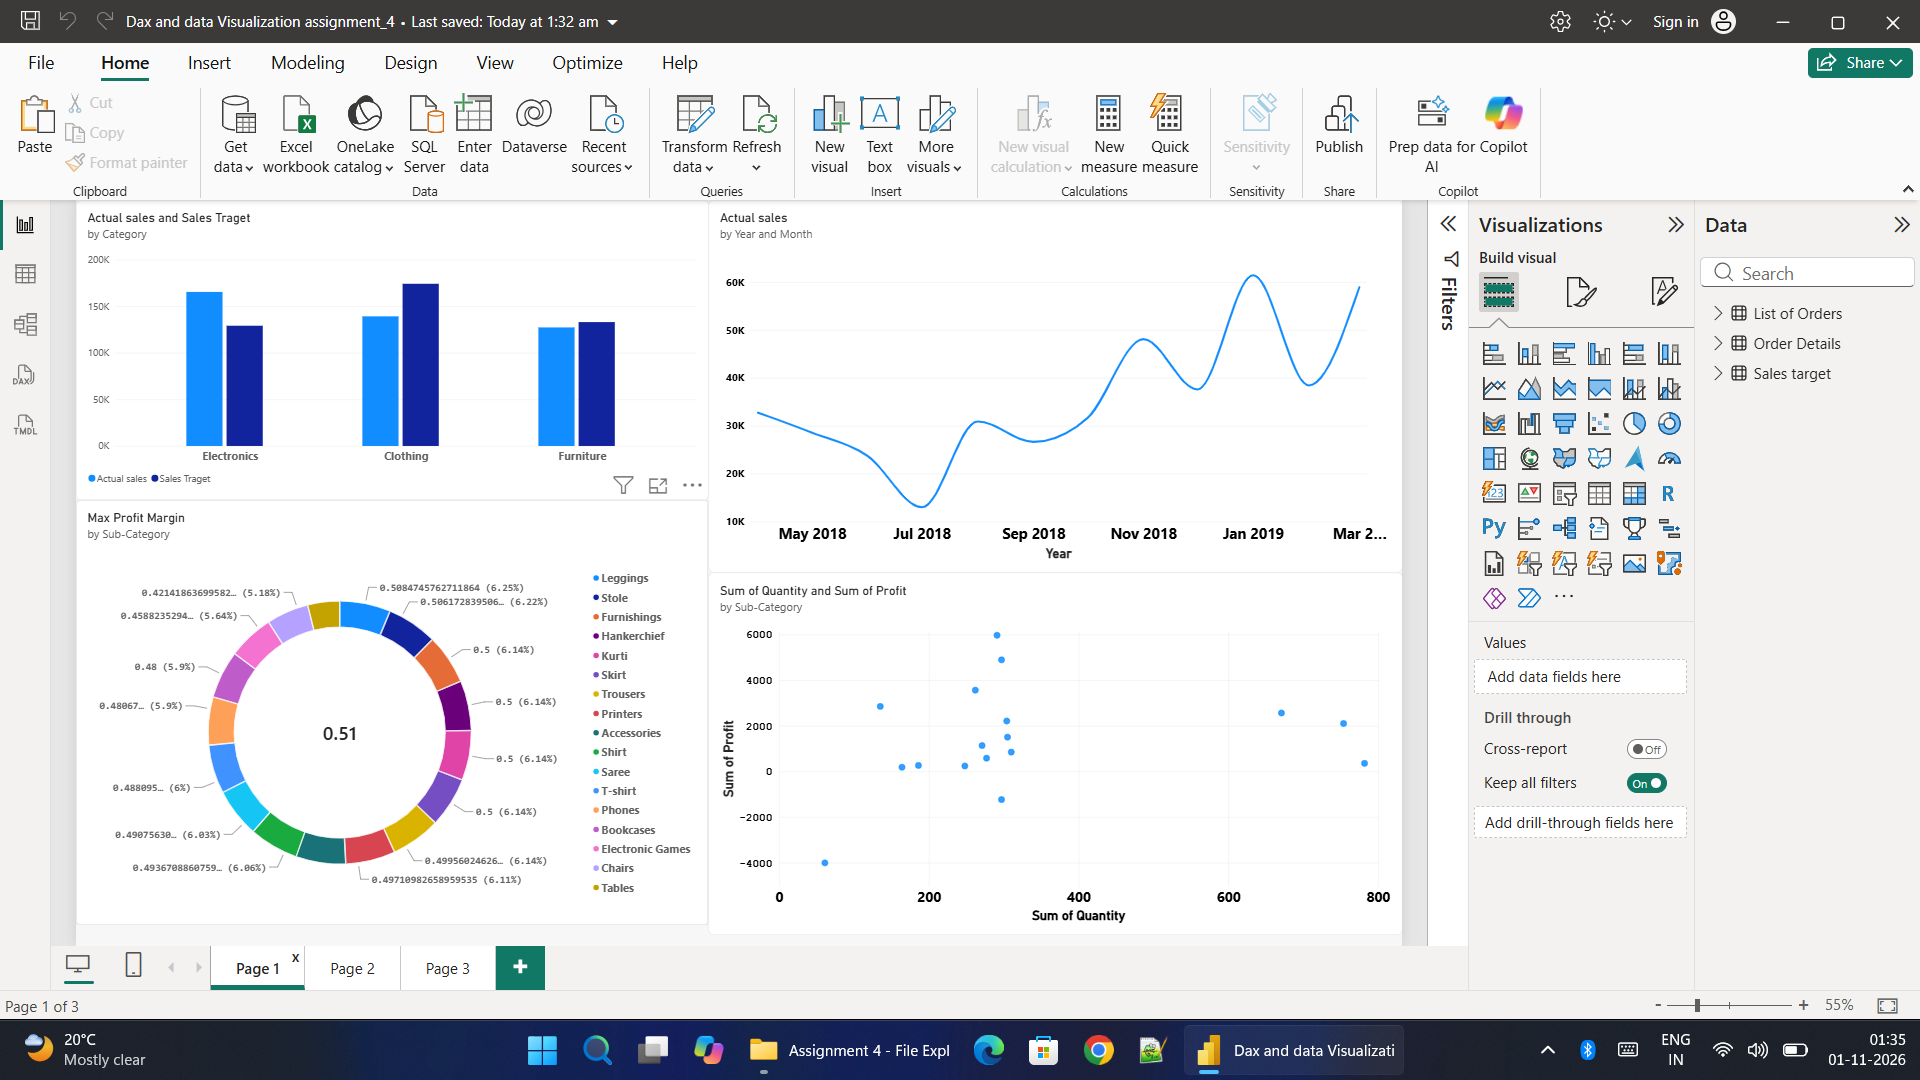

Layout of this report page (visuals, bound fields, positions):
{"tool":"powerbi","page":{"name":"Page 1","canvas":[1920,1080],"ordinal":0},"visuals":[{"type":"clusteredColumnChart","fields":{"Category":["Sales target.Category"],"Y":["Order Details.Actual sales","Sales target.Sales Traget"]},"box":[0,0,916,434.3],"z":0},{"type":"donutChart","fields":{"Category":["Order Details.Sub-Category"],"Y":["Order Details.Max Profit Margin"]},"box":[0,434.3,916,615.4],"z":1000},{"type":"lineChart","fields":{"Category":["List of Orders.Order Date.Variation.Date Hierarchy.Year","List of Orders.Order Date.Variation.Date Hierarchy.Month"],"Y":["Order Details.Actual sales"]},"box":[916,0,1004.5,539.3],"z":2000},{"type":"scatterChart","fields":{"Category":["Order Details.Sub-Category"],"X":["Sum(Order Details.Quantity)"],"Y":["Sum(Order Details.Profit)"]},"box":[916,539.3,1004.5,524.9],"z":3000}]}

Visuals, with their boxes on the page's 1920x1080 design canvas (x1, y1, x2, y2). These are canvas units, not pixel positions in the 1920x1080 screenshot, which may show the page scaled, cropped or inside an application window:
clusteredColumnChart - Sales target.Category x Order Details.Actual sales: (0,0,916,434)
donutChart - Order Details.Sub-Category x Order Details.Max Profit Margin: (0,434,916,1050)
lineChart - List of Orders.Order Date.Variation.Date Hierarchy.Year x List of Orders.Order Date.Variation.Date Hierarchy.Month: (916,0,1920,539)
scatterChart - Order Details.Sub-Category x Sum(Order Details.Quantity): (916,539,1920,1064)
